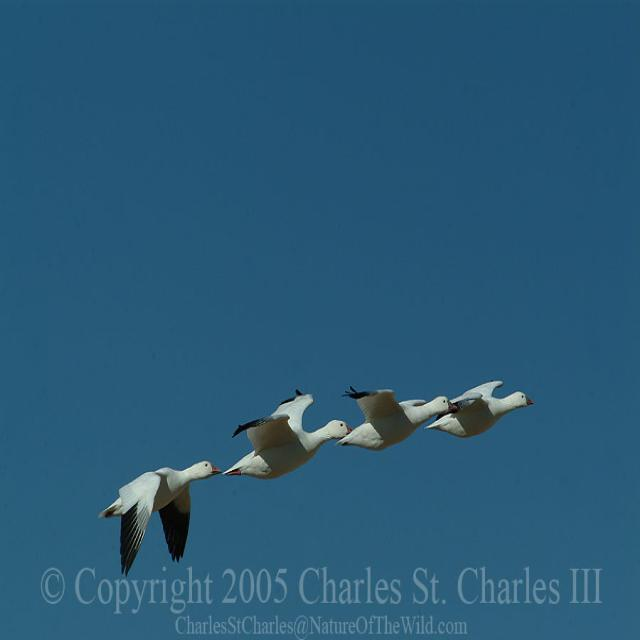bird: (96, 461, 220, 575), (225, 390, 340, 485), (337, 373, 464, 451), (435, 374, 533, 446)
